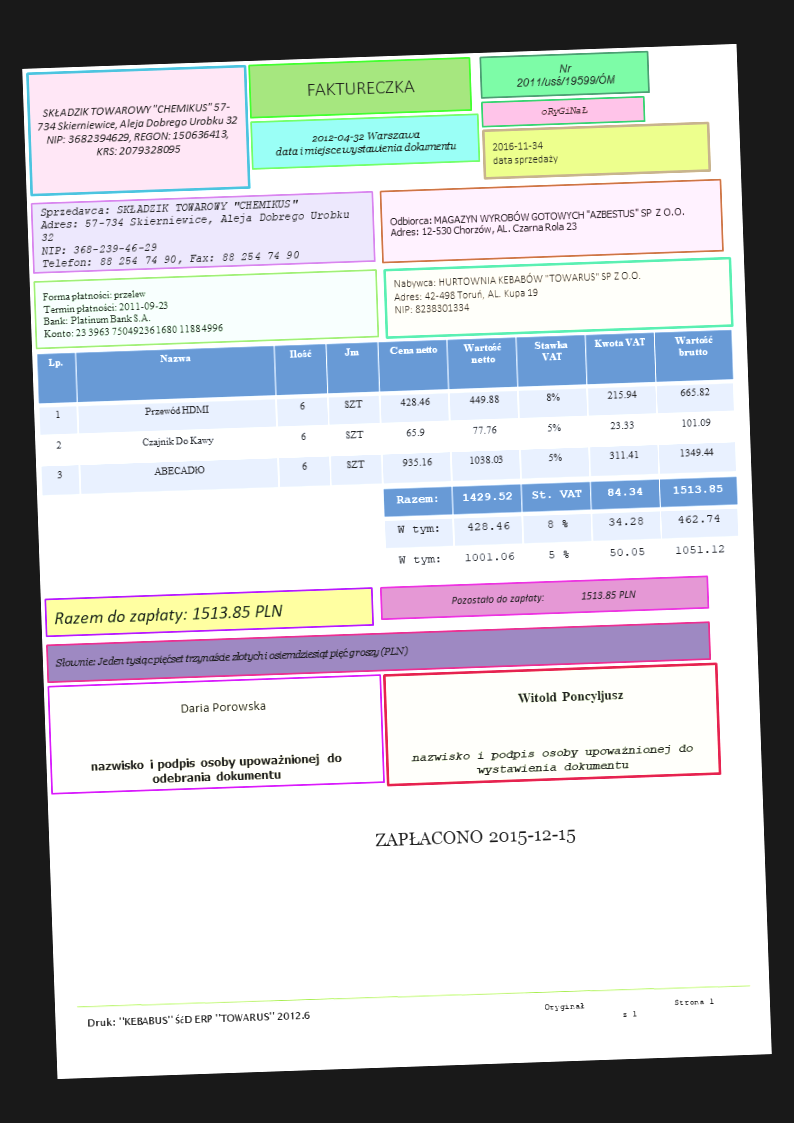Table: (35, 328, 738, 498), (380, 475, 742, 580)
TextBox: (37, 193, 354, 270), (34, 97, 241, 162), (391, 268, 643, 315), (52, 640, 409, 673), (407, 741, 694, 779), (38, 282, 226, 340), (388, 204, 687, 240), (86, 751, 345, 789), (50, 597, 285, 627), (370, 823, 578, 854), (83, 1004, 315, 1031), (272, 127, 460, 159), (542, 996, 719, 1022), (447, 586, 638, 607), (512, 58, 617, 91), (303, 76, 419, 101), (514, 685, 628, 707), (489, 138, 560, 168), (177, 694, 270, 716), (538, 102, 591, 118)
